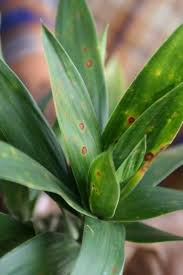Diseased_Leaves: (78, 37, 97, 77), (154, 61, 175, 84), (76, 143, 93, 158), (92, 170, 101, 196), (144, 153, 155, 167), (78, 124, 86, 130)
